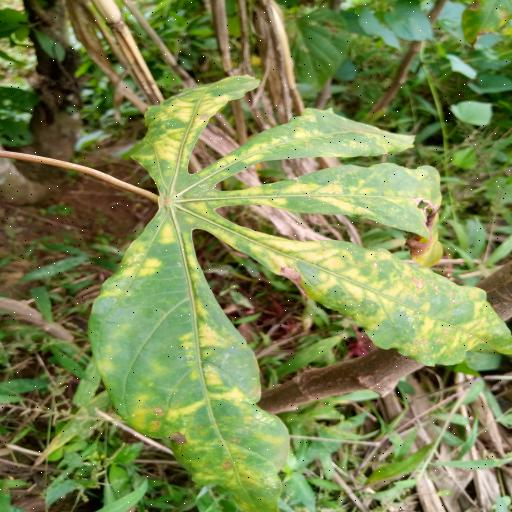Cassava_Mosaic: (83, 72, 512, 512)
